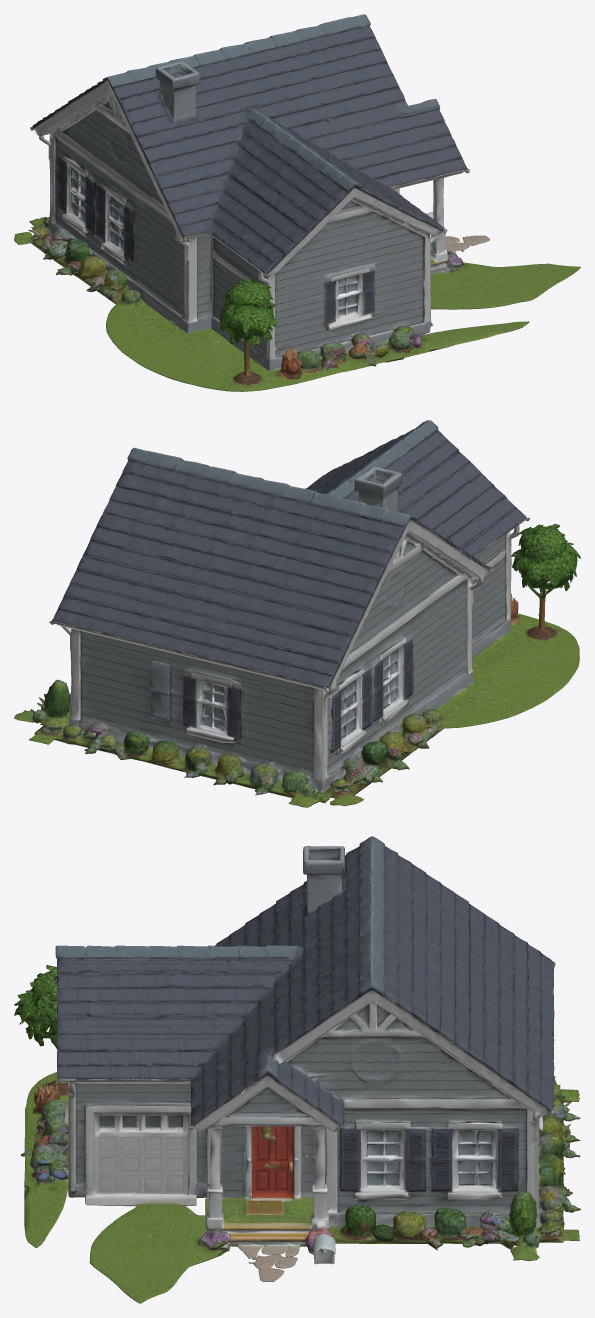
The model's file is house_1storyC_grey.glb.
3 renders of one model, top to bottom at view 1: azimuth 30°, elevation 25°; view 2: azimuth 150°, elevation 25°; view 3: azimuth 270°, elevation 25°, orthographic. The views are drawn at different scales.
Parts seen in each view (by area): view 1: tripo_node_98227a51-5df7-4db5-a6c8-55f881db1c75; view 2: tripo_node_98227a51-5df7-4db5-a6c8-55f881db1c75; view 3: tripo_node_98227a51-5df7-4db5-a6c8-55f881db1c75.
Part boxes in pixels (x1,y1,x2,y2): tripo_node_98227a51-5df7-4db5-a6c8-55f881db1c75: [14, 14, 580, 391]; tripo_node_98227a51-5df7-4db5-a6c8-55f881db1c75: [14, 420, 580, 807]; tripo_node_98227a51-5df7-4db5-a6c8-55f881db1c75: [14, 836, 580, 1303].
Size of the model in its own units: 1 by 0.4952 by 0.9583.
Materials: 1 (1 with a texture image).
